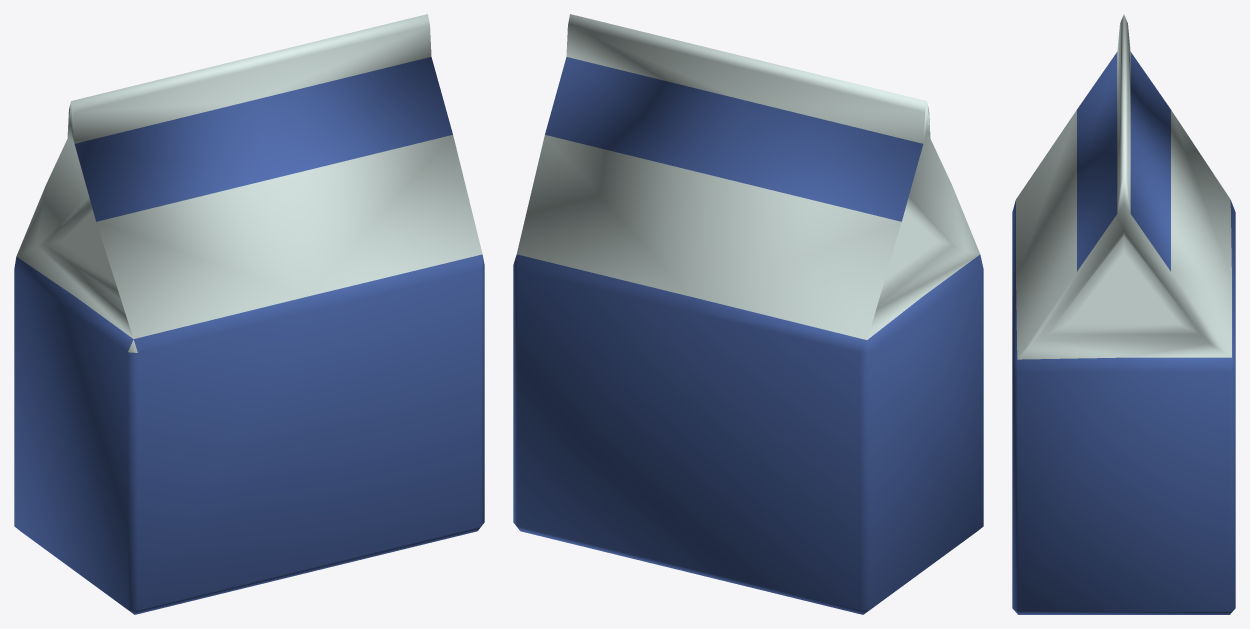
The model's file is milk.fbx.
3 renders of one model, left to right at view 1: azimuth 30°, elevation 25°; view 2: azimuth 150°, elevation 25°; view 3: azimuth 270°, elevation 25°, orthographic. The views are drawn at different scales.
Visible parts, largest first — view 1: milk.001; view 2: milk.001; view 3: milk.001.
Boxes of the visible parts, box(x1,y1,x2,y2) form: milk.001: box(14, 14, 484, 614); milk.001: box(513, 14, 983, 614); milk.001: box(1012, 14, 1235, 614).
Bounding box in the file's own units: 184 × 233 × 107.
